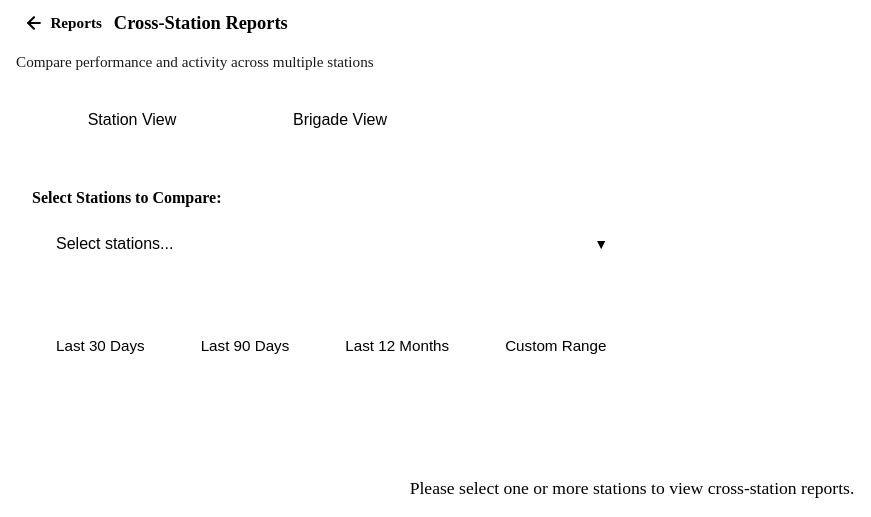
CrossStationReportsPage › displays empty state in brigade view when no brigade is selected
Click the button "Brigade View": (340, 120) [240,99,440,141]
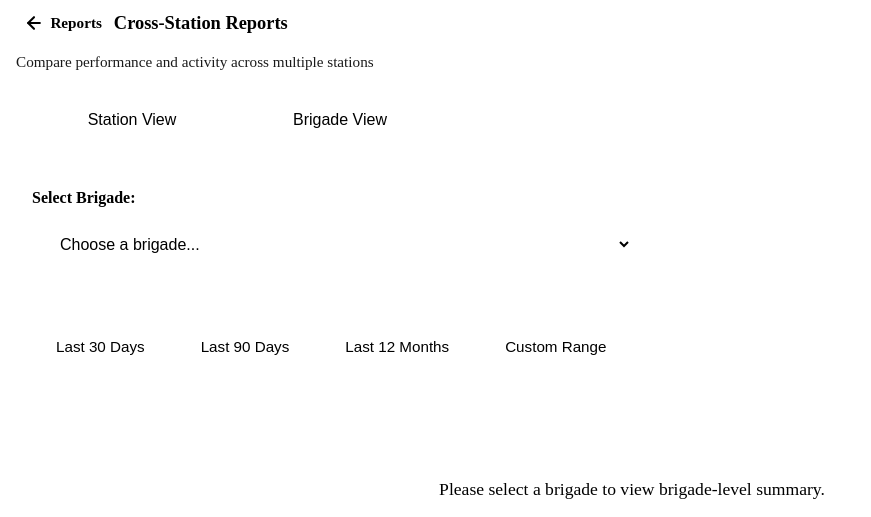
Expected: the text "Please select a brigade to view brigade-level summary." is shown, [439,479,825,500]
